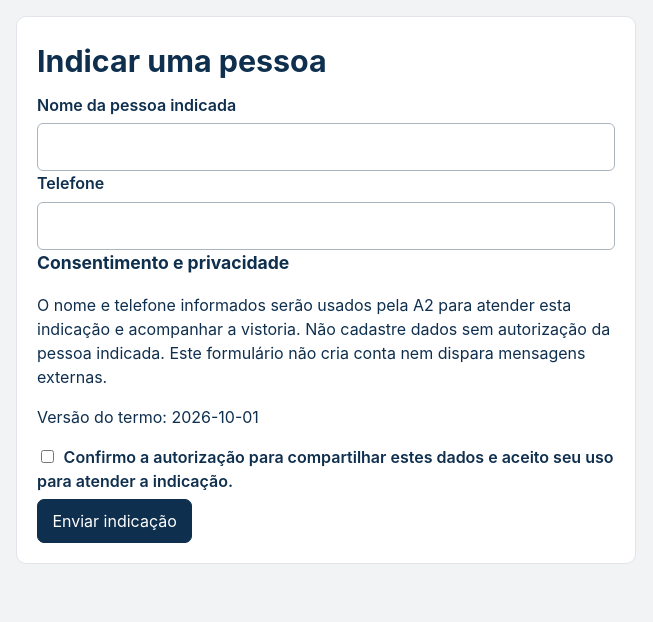
sem consentimento não envia indicação
The width and height of the screenshot is (653, 622).
Type "Pessoa fictícia" into the field labelled "Nome da pessoa indicada" at [326, 147], box [37,123,615,172]
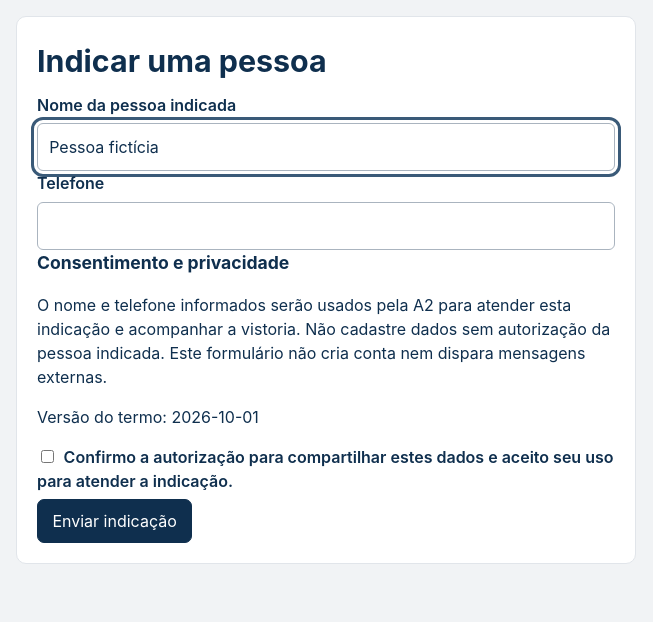
Type "85999990000" into the field labelled "Telefone" at [326, 226], box [37,202,615,250]
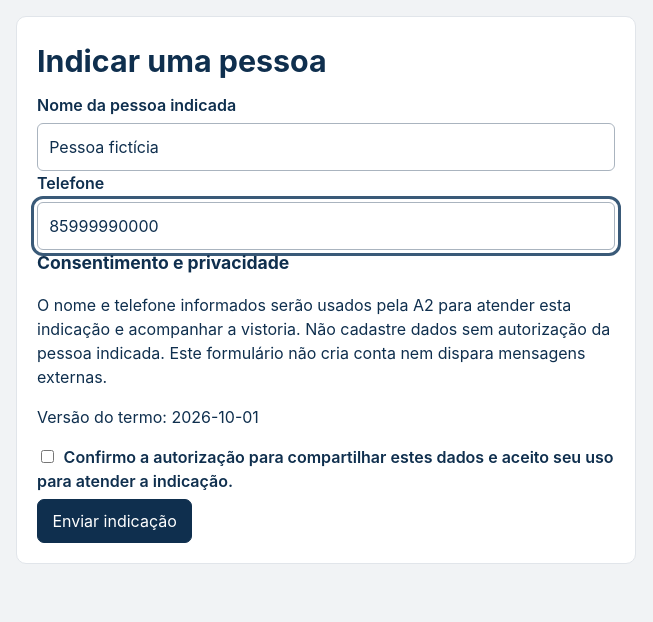
Click the button "Enviar indicação" at [115, 521], box [37,499,192,543]
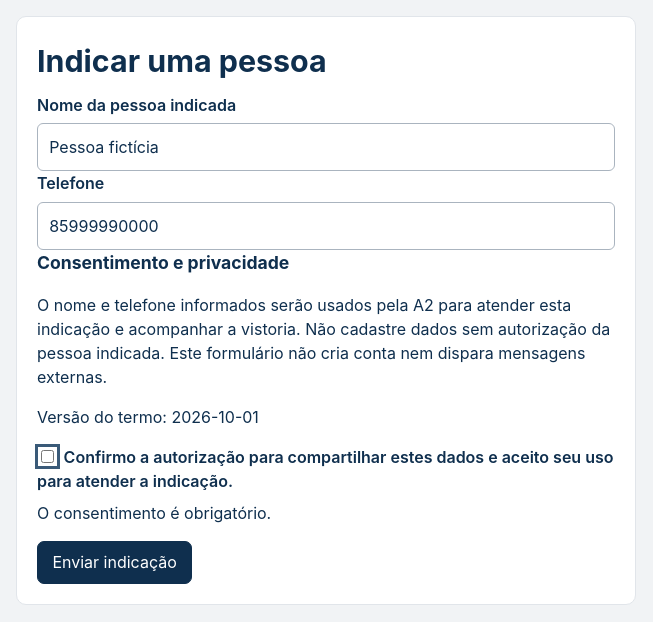
Check: the text "O consentimento é obrigatório." is shown, box [37,503,271,523]
